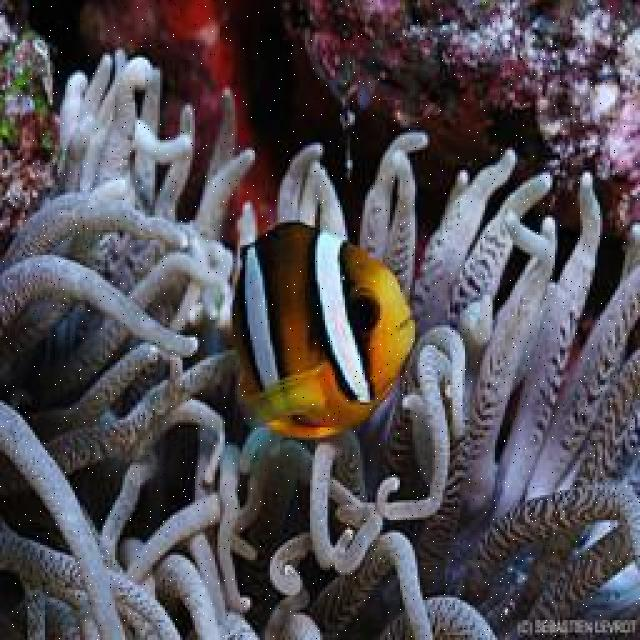fish: (230, 220, 415, 439)
reefs: (0, 48, 638, 638)
